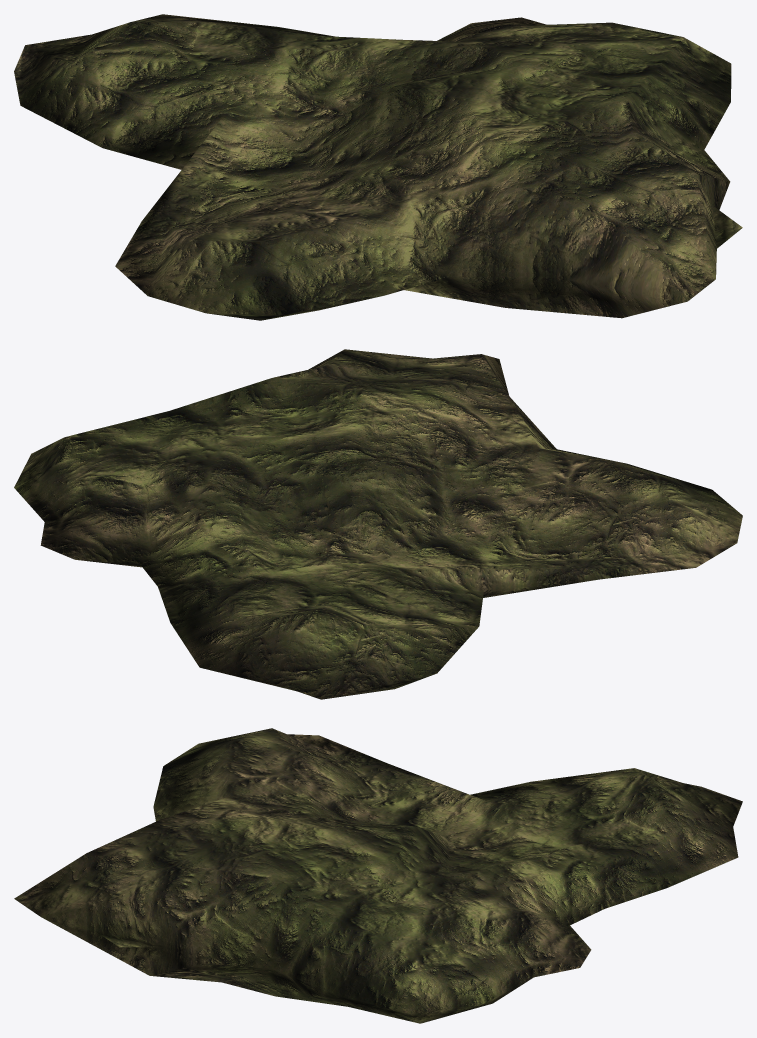
The model's file is turd_pile01.DAE.
3 renders of one model, top to bottom at view 1: azimuth 30°, elevation 25°; view 2: azimuth 150°, elevation 25°; view 3: azimuth 270°, elevation 25°, orthographic. The views are drawn at different scales.
Parts seen in each view (by area): view 1: Plane001; view 2: Plane001; view 3: Plane001.
Part boxes in pixels (x1,y1,x2,y2): Plane001: (14, 14, 742, 320); Plane001: (14, 349, 742, 699); Plane001: (14, 728, 742, 1023).
Bounding box in the file's own units: 3.44 × 3.77 × 0.67.
